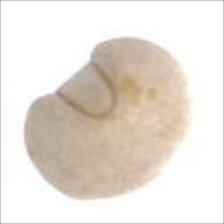L5: (52, 56, 121, 125), (120, 143, 178, 193)
L6: (19, 34, 194, 204)
